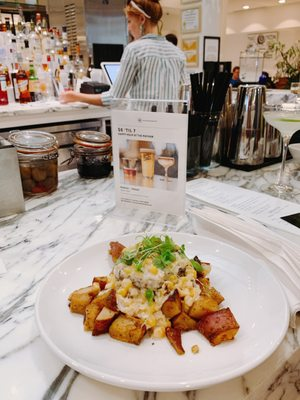curry: (1, 114, 300, 400)
sandwich: (260, 109, 300, 203)
